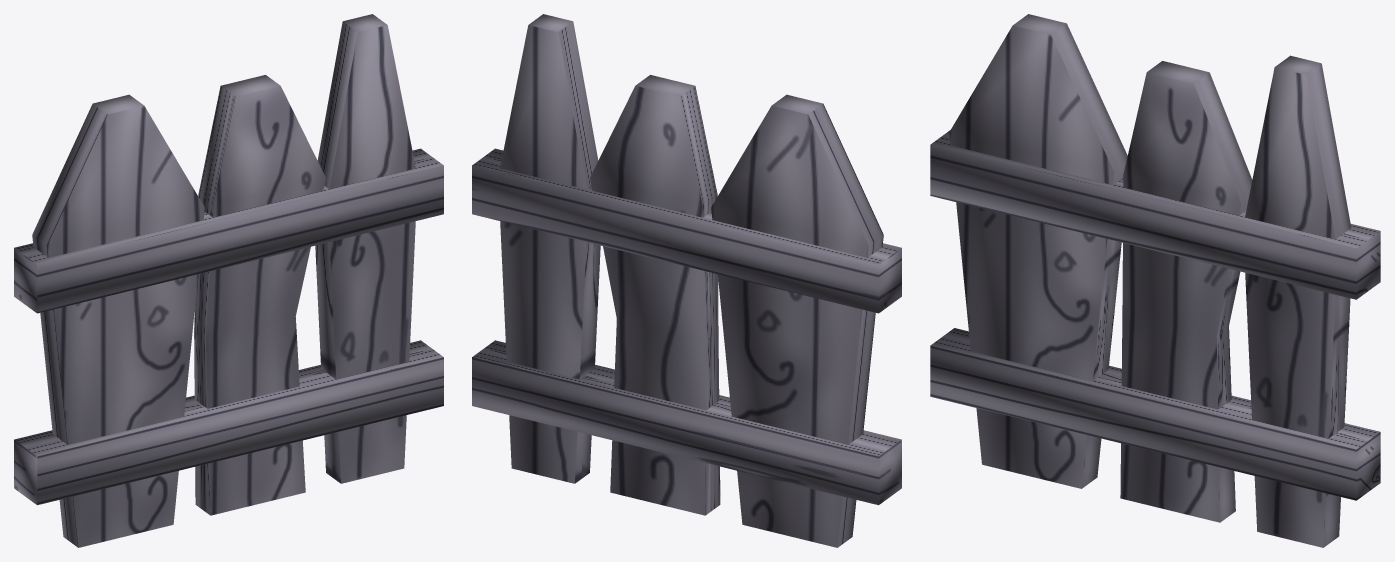
The model's file is CercaFase2.fbx.
The picture shows the model from 3 angles, left to right: view 1: azimuth 30°, elevation 25°; view 2: azimuth 150°, elevation 25°; view 3: azimuth 330°, elevation 25°; orthographic projection. The views are drawn at different scales.
Visible parts, largest first — view 1: Cube; view 2: Cube; view 3: Cube.
Part boxes in pixels (x1,y1,x2,y2): Cube: [14, 14, 443, 547]; Cube: [472, 14, 901, 547]; Cube: [930, 14, 1380, 547].
Bounding box in the file's own units: 94.58 × 9.28 × 99.44.
